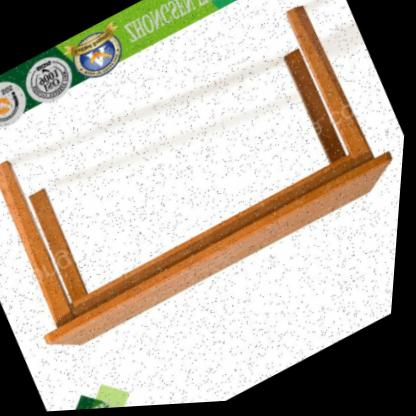Table: (0, 0, 416, 386)
